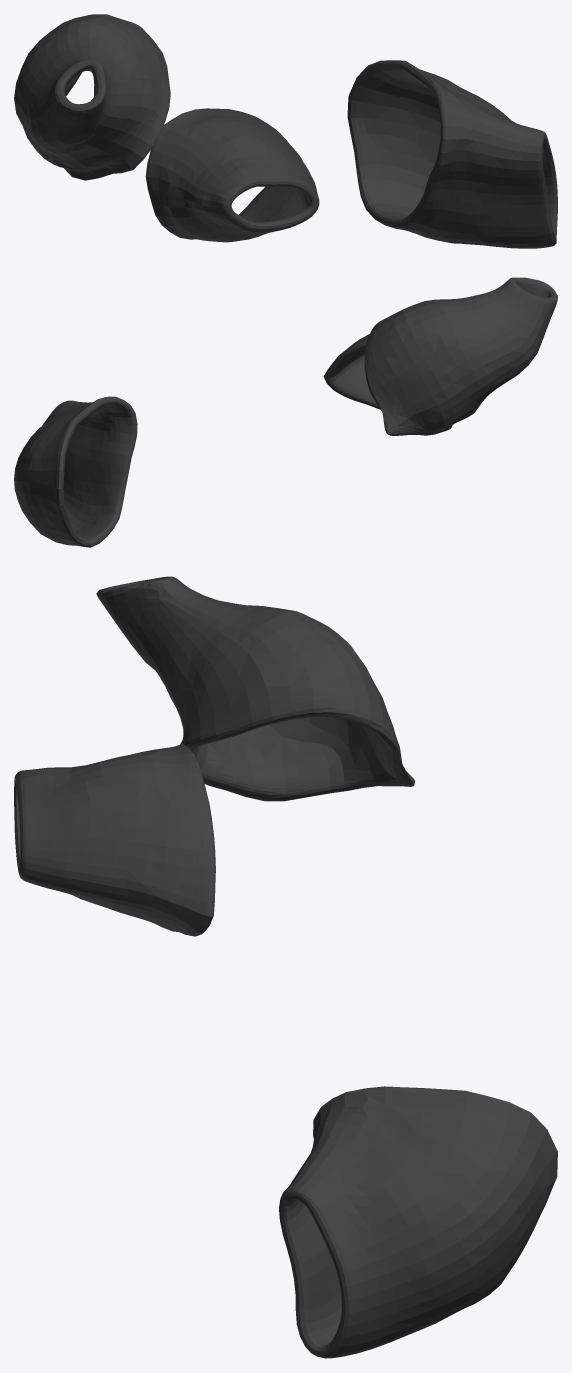
File: Ampulla_1_L.glb
3 views of the same model, one above another, from view 1: azimuth 30°, elevation 25°; view 2: azimuth 150°, elevation 25°; view 3: azimuth 270°, elevation 25° (orthographic). The views are drawn at different scales.
Parts seen in each view (by area): view 1: Ampulla_1_L; view 2: Ampulla_1_L; view 3: Ampulla_1_L.
Part boxes in pixels (x1,y1,x2,y2): Ampulla_1_L: [14, 14, 557, 248]; Ampulla_1_L: [14, 277, 557, 547]; Ampulla_1_L: [14, 576, 557, 1358].
Size of the model in its own units: 1.96 by 1.17 by 1.25.
Materials: 1 (1 with a texture image).
